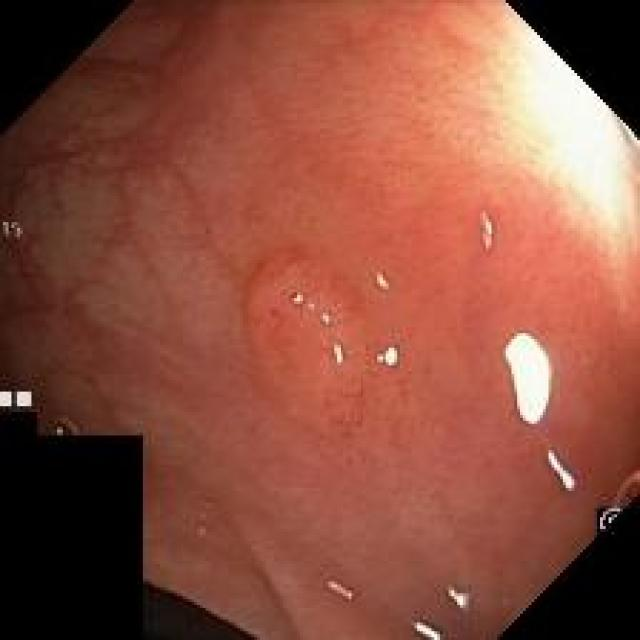Polyps: (248, 253, 402, 426)
